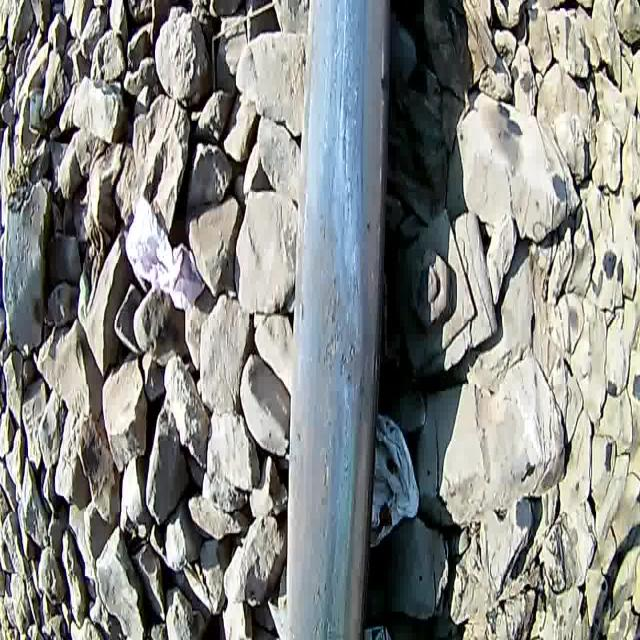Squats: (273, 276, 400, 417), (261, 568, 389, 640)
